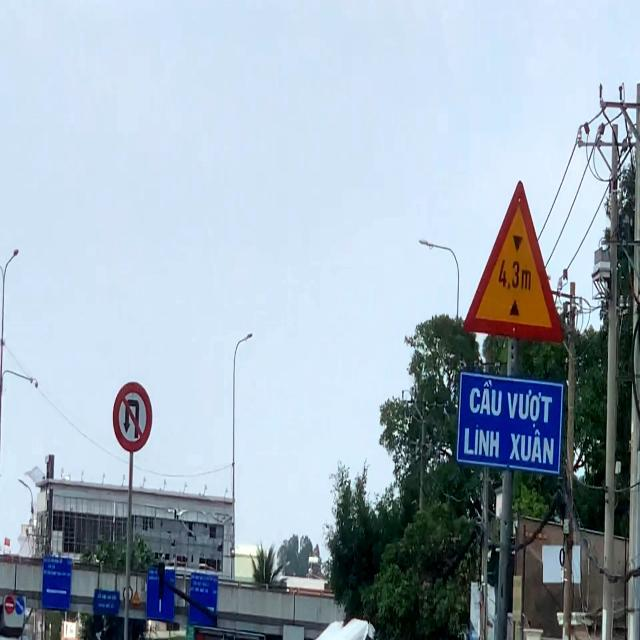P-124a1: (109, 379, 151, 451)
W-239b: (461, 179, 565, 346)
